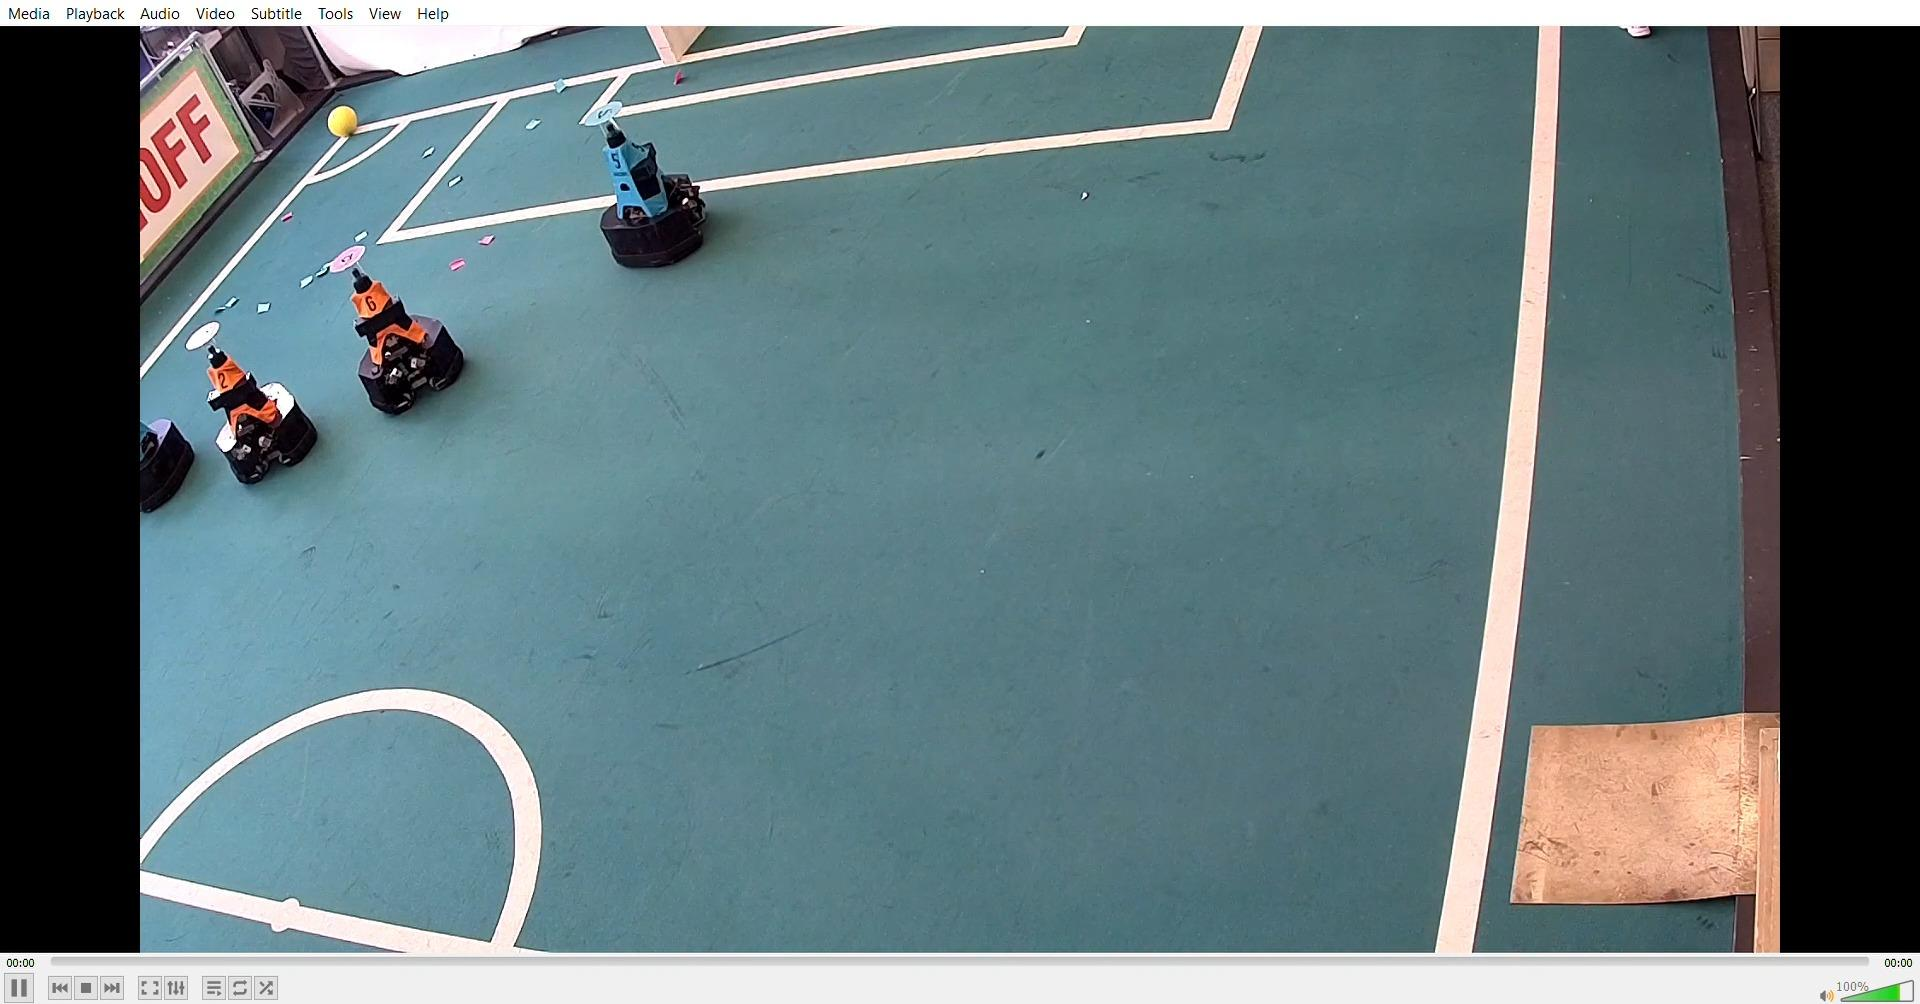Ball: (334, 104, 368, 136)
Team_Blue: (582, 90, 720, 272)
Team_Red: (324, 235, 469, 414), (182, 316, 321, 486)
